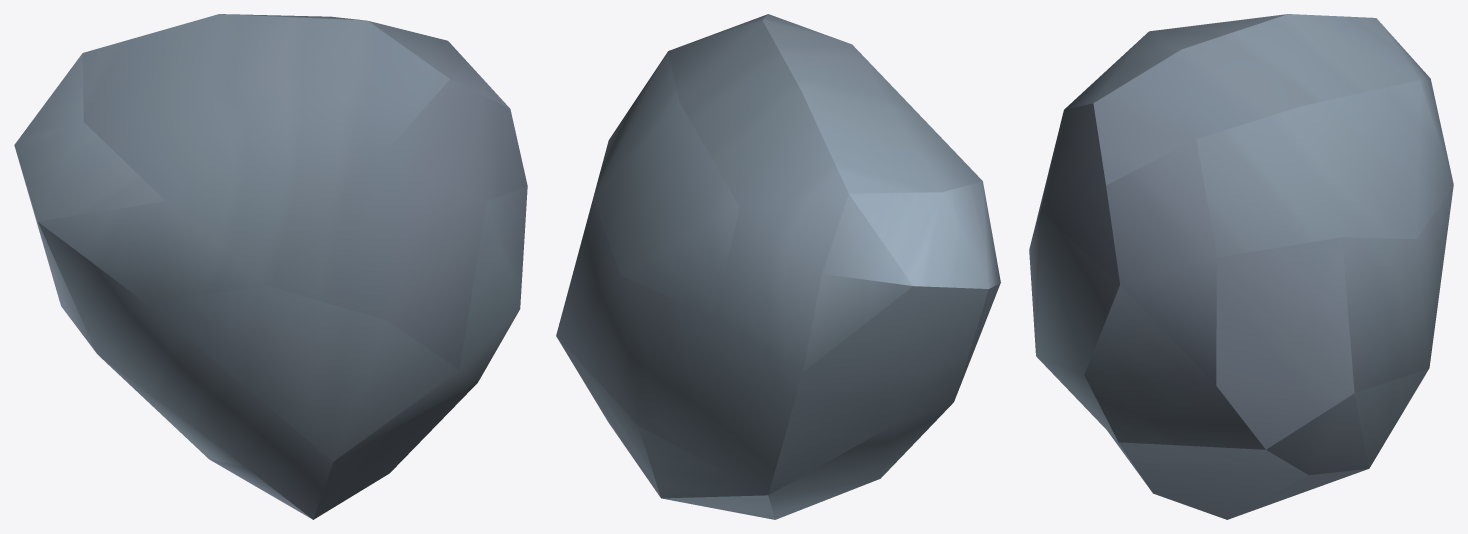
Rendered from rock_3_d_color1.89c92bb5.glb.
The picture shows the model from 3 angles, left to right: view 1: azimuth 30°, elevation 25°; view 2: azimuth 150°, elevation 25°; view 3: azimuth 270°, elevation 25°; orthographic projection.
Parts seen in each view (by area): view 1: Rock_3_D_Color1; view 2: Rock_3_D_Color1; view 3: Rock_3_D_Color1.
Part boxes in pixels (bbox=[...]): Rock_3_D_Color1: bbox=[14, 14, 527, 519]; Rock_3_D_Color1: bbox=[556, 14, 1000, 519]; Rock_3_D_Color1: bbox=[1029, 14, 1453, 519].
Bounding box in the file's own units: 0.9325 × 0.9716 × 0.7945.
1 material, 1 textured.
